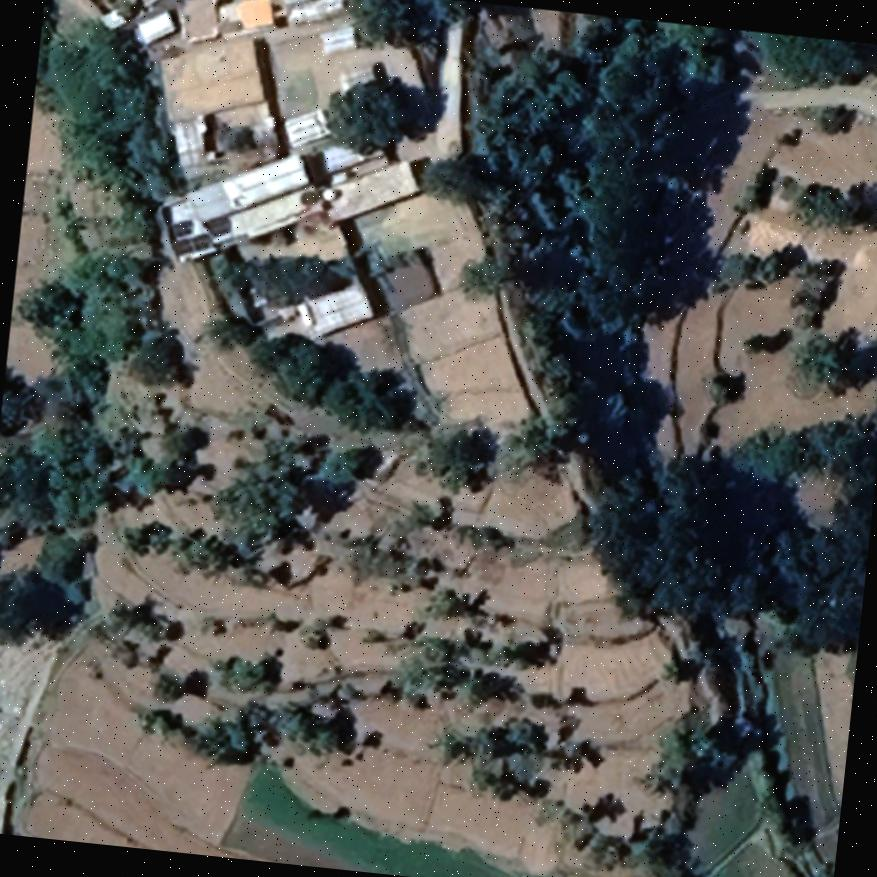Solarpanel: (167, 212, 233, 257)
